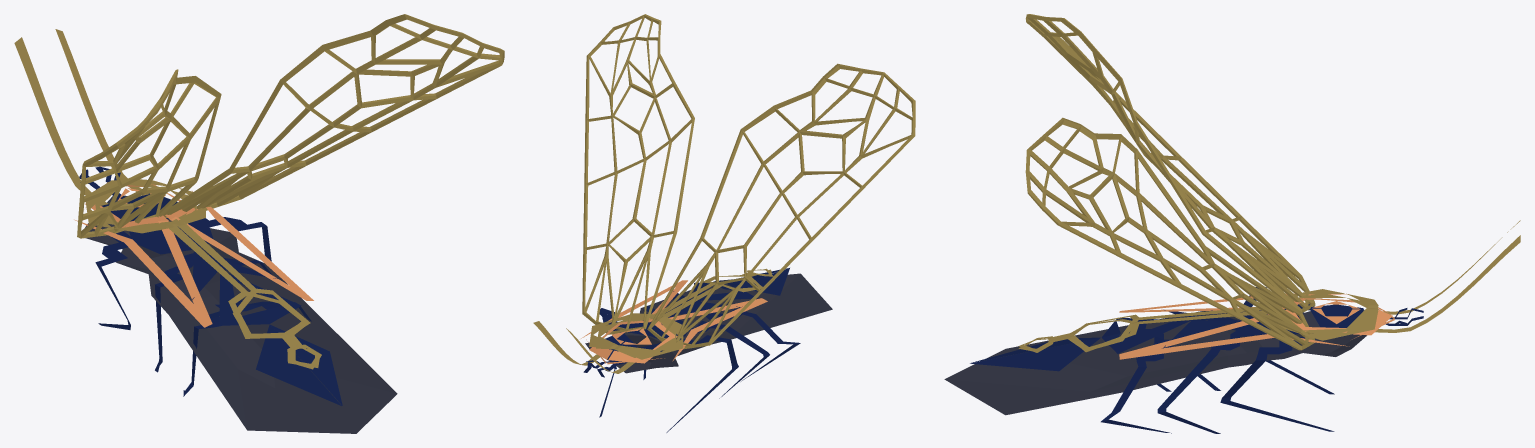
File: moth_7.gltf
3 renders of one model, left to right at view 1: azimuth 30°, elevation 25°; view 2: azimuth 150°, elevation 25°; view 3: azimuth 270°, elevation 25°, orthographic. The views are drawn at different scales.
Visible parts, largest first — view 1: CNTRL_, WINGS_.001, 2_LEGS, ANTENI; view 2: WINGS_.001, CNTRL_, 2_LEGS, ANTENI; view 3: CNTRL_, WINGS_.001, 2_LEGS, ANTENI.
Boxes of the visible parts, box(x1,y1,x2,y2) form: CNTRL_: box(74, 178, 397, 433); WINGS_.001: box(77, 14, 504, 238); 2_LEGS: box(79, 166, 311, 396); ANTENI: box(14, 29, 148, 205); WINGS_.001: box(582, 14, 915, 349); CNTRL_: box(581, 268, 832, 373); 2_LEGS: box(583, 298, 800, 432); ANTENI: box(533, 321, 634, 373); CNTRL_: box(944, 289, 1394, 415); WINGS_.001: box(1025, 14, 1315, 350); 2_LEGS: box(1101, 287, 1423, 433); ANTENI: box(1363, 220, 1520, 332).
Bounding box in the file's own units: 2.8 × 2.42 × 3.66.
